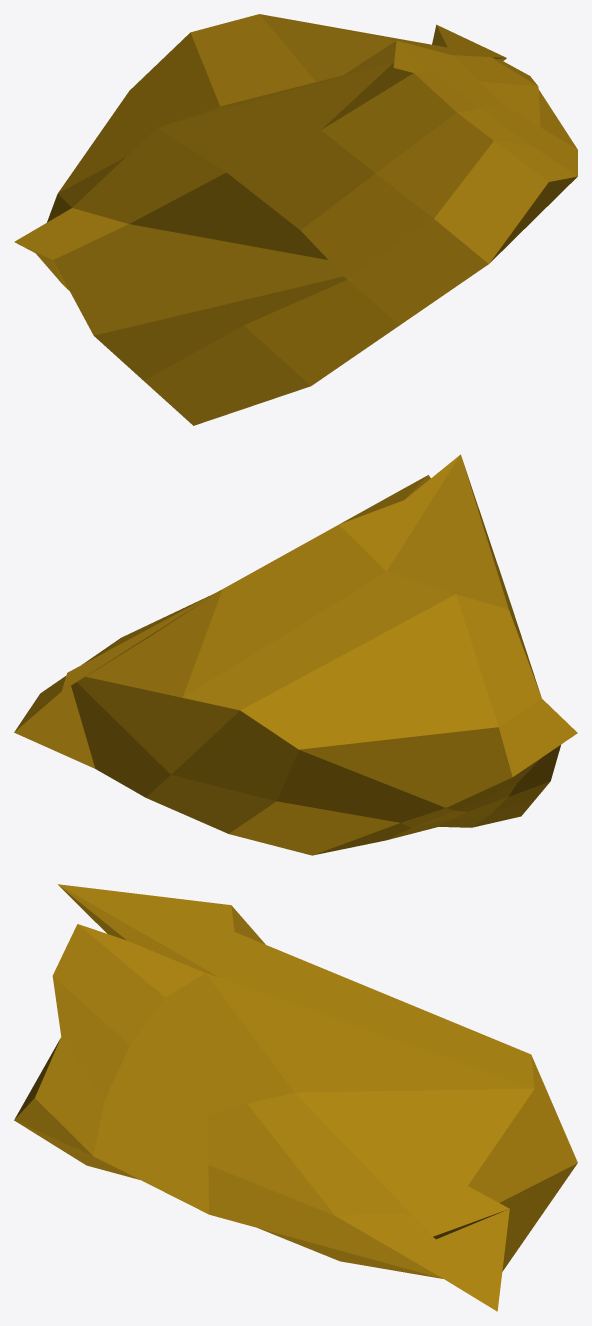
The model's file is rock3.fbx.
3 views of the same model, one above another, from view 1: azimuth 30°, elevation 25°; view 2: azimuth 150°, elevation 25°; view 3: azimuth 270°, elevation 25° (orthographic). The views are drawn at different scales.
Parts seen in each view (by area): view 1: pPlatonic1; view 2: pPlatonic1; view 3: pPlatonic1.
Part boxes in pixels (x1=…): pPlatonic1: x1=14, y1=14, x2=577, y2=425; pPlatonic1: x1=14, y1=454, x2=577, y2=855; pPlatonic1: x1=14, y1=884, x2=577, y2=1311.
Size of the model in its own units: 4.47 by 2.67 by 3.68.
